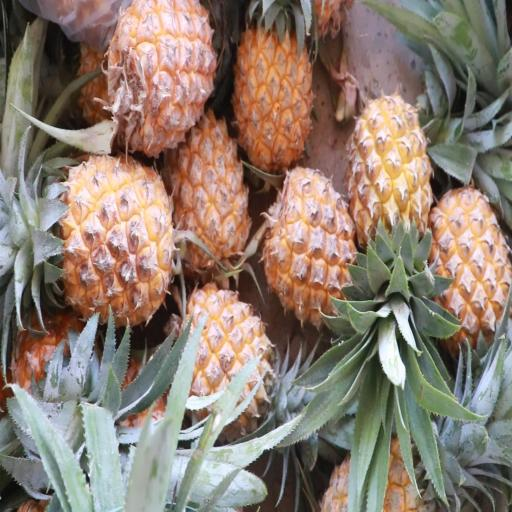Pineapple - v8 v1: (8, 149, 178, 327), (106, 0, 220, 163), (167, 281, 282, 439), (259, 165, 362, 335), (346, 92, 435, 288), (425, 184, 512, 372), (232, 2, 315, 186), (170, 102, 254, 279)
